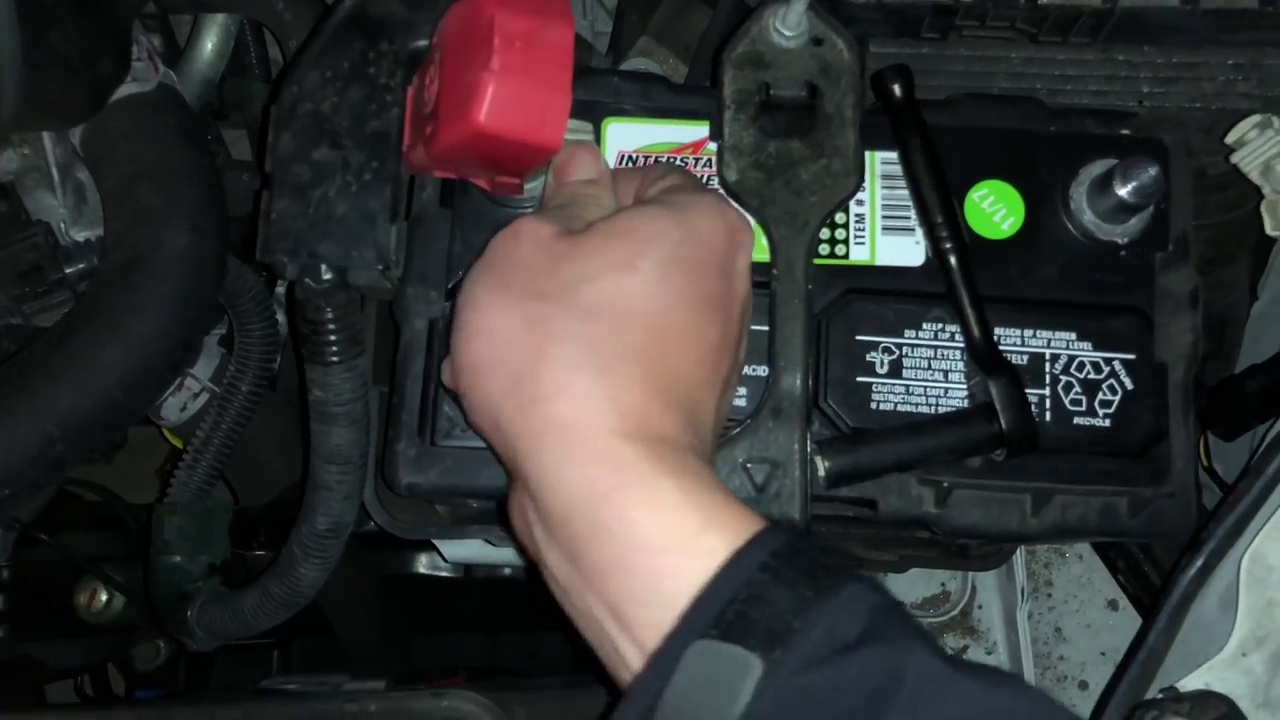battery: (417, 58, 1181, 507)
neg_disconnected: (1027, 136, 1193, 266)
pos_touched: (399, 34, 689, 307)
